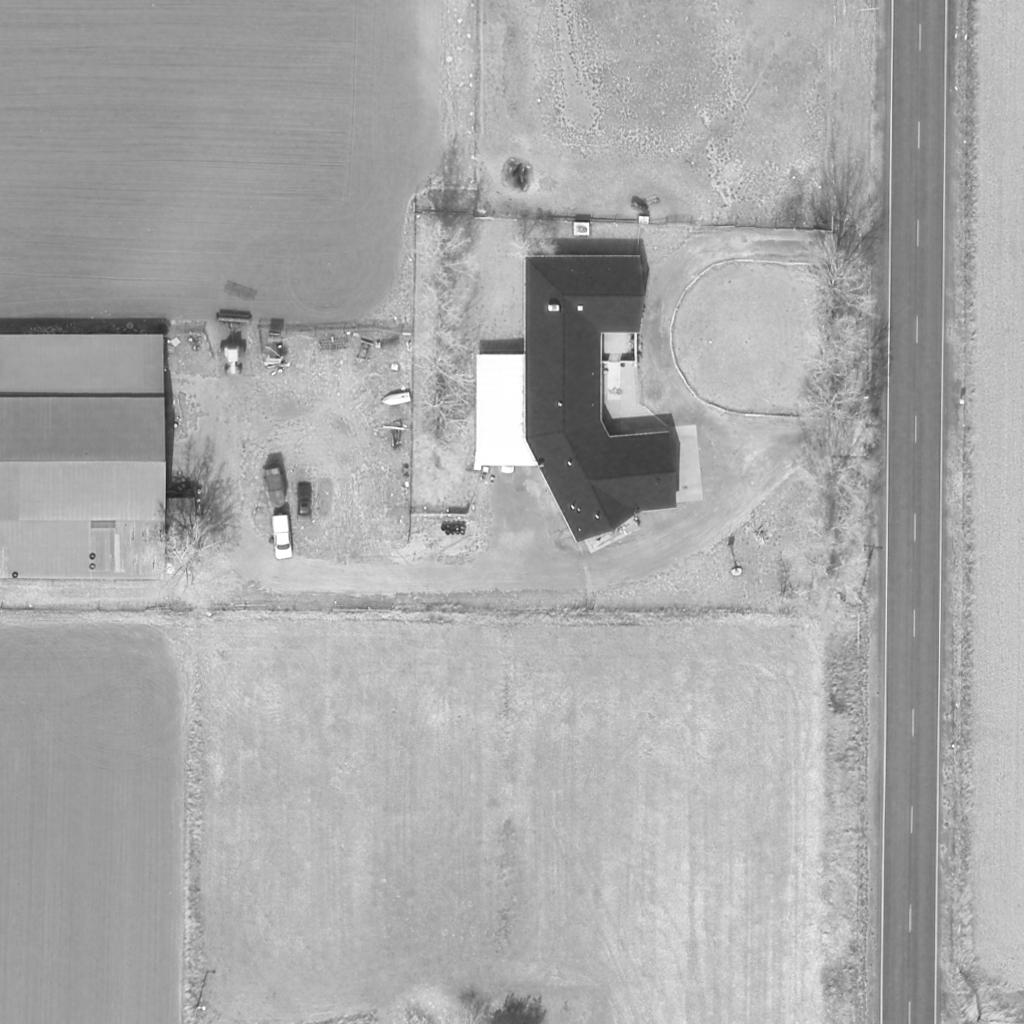vehicle: (215, 340, 249, 376), (272, 515, 296, 561), (374, 388, 414, 410), (297, 480, 315, 526)
